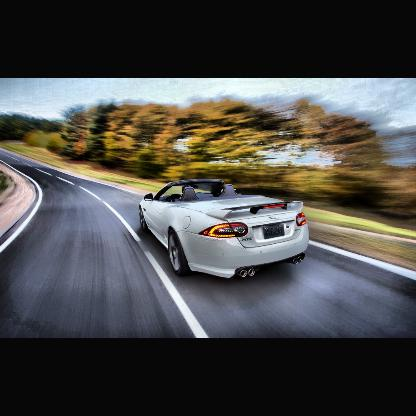Jaguar XK XKR 2012: (140, 180, 313, 281)
